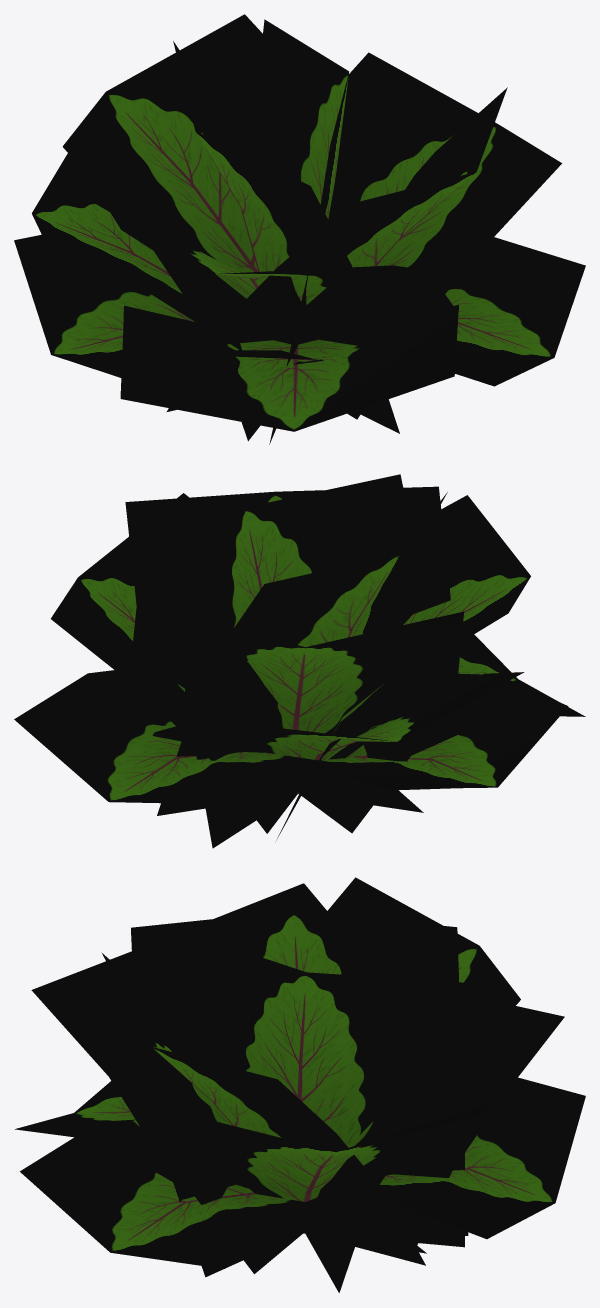
Rendered from BeetPlant03.fbx.
3 renders of one model, top to bottom at view 1: azimuth 30°, elevation 25°; view 2: azimuth 150°, elevation 25°; view 3: azimuth 270°, elevation 25°, orthographic. The views are drawn at different scales.
Parts seen in each view (by area): view 1: BeetPlant03_LOD0; view 2: BeetPlant03_LOD0; view 3: BeetPlant03_LOD0.
Part boxes in pixels (left/top/right/bottom): BeetPlant03_LOD0: left=14, top=14, right=585, bottom=444; BeetPlant03_LOD0: left=14, top=474, right=585, bottom=848; BeetPlant03_LOD0: left=15, top=877, right=585, bottom=1292.
Size of what is drawn, in the model's own units: 73.93 by 42.82 by 76.12.
